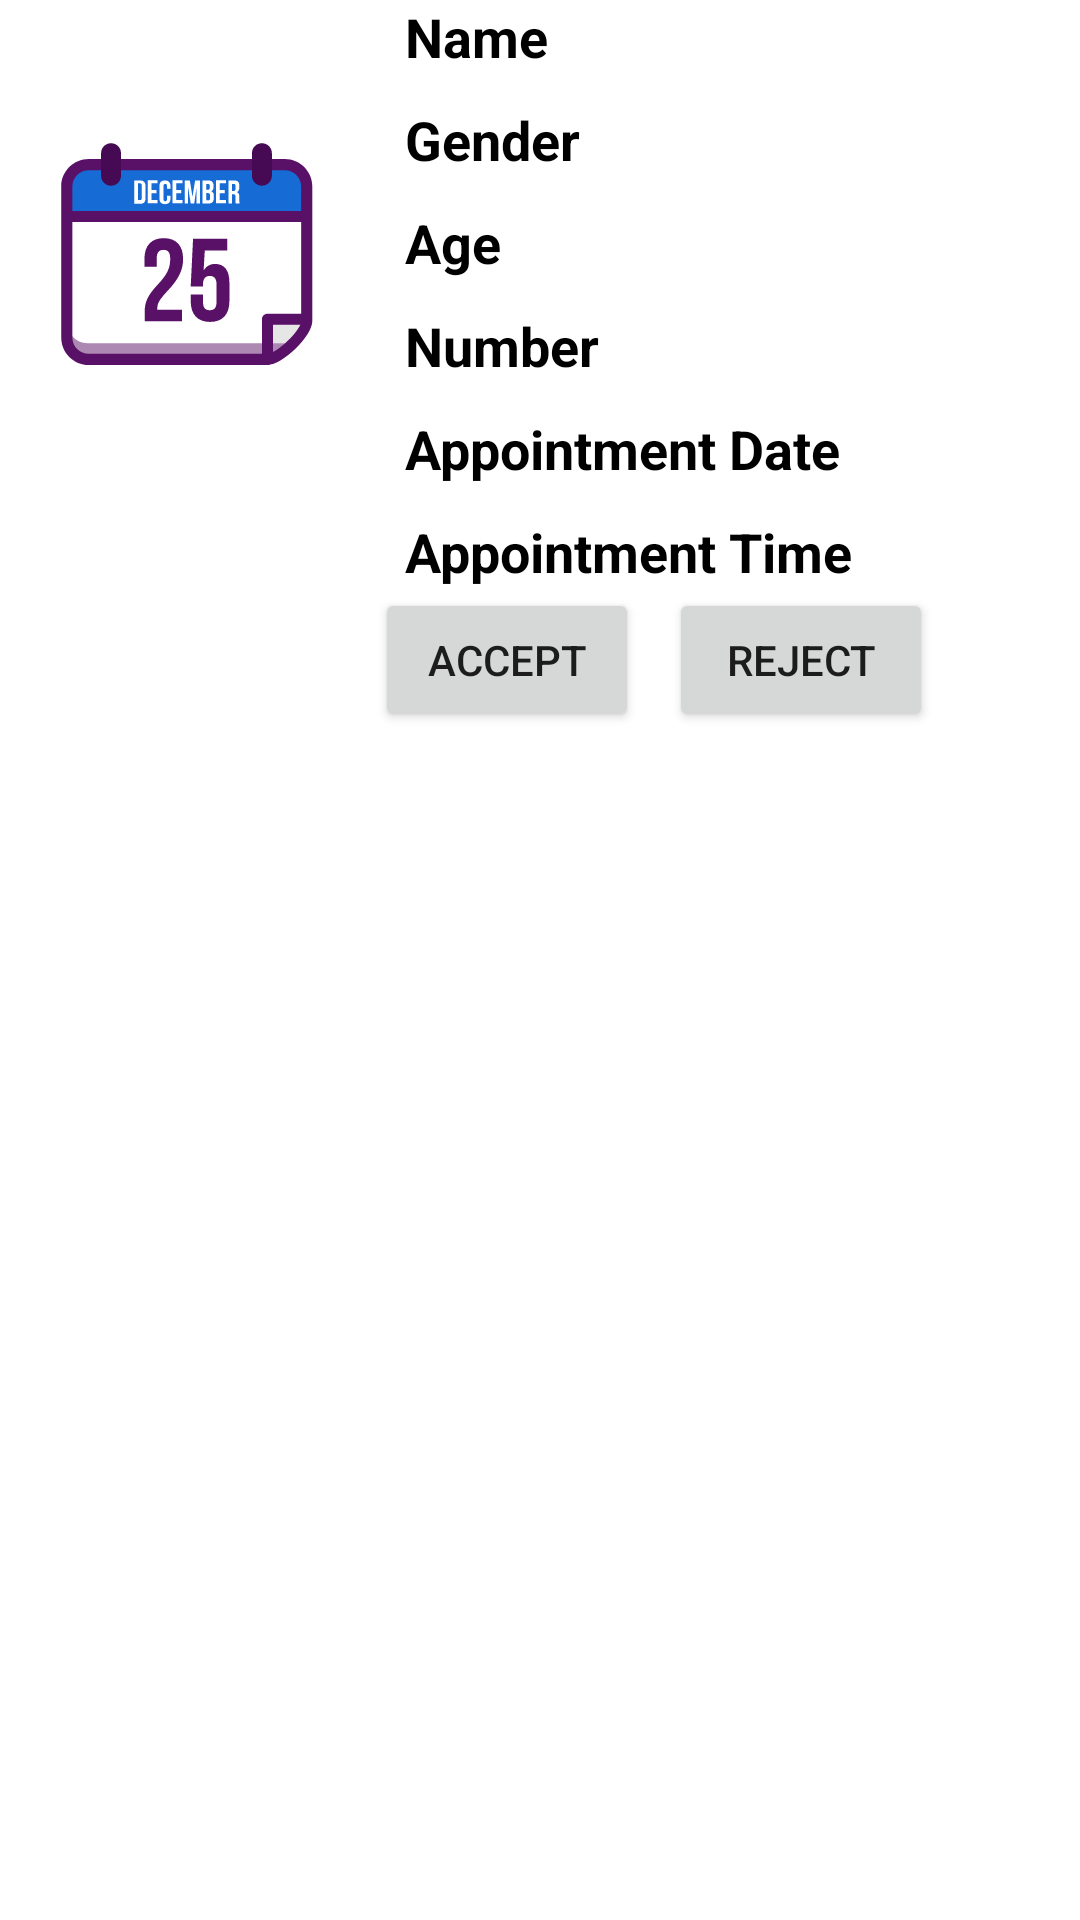

Icon click points for this 1080 x 1920 phone screenshot, format (x=x, y=y):
appointment calendar date: (x=187, y=254)
